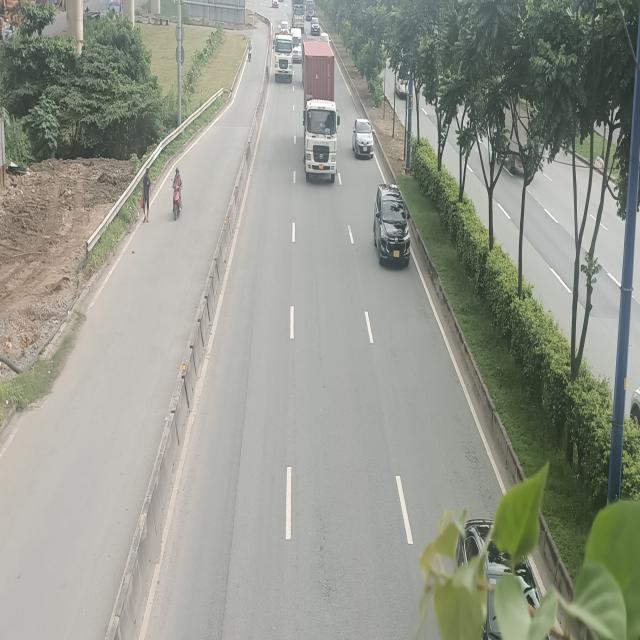car: (373, 184, 411, 265), (352, 119, 374, 160), (310, 18, 320, 34)
container: (303, 40, 339, 180), (272, 32, 292, 80)
truck: (292, 0, 304, 33)
van: (291, 27, 302, 62)
